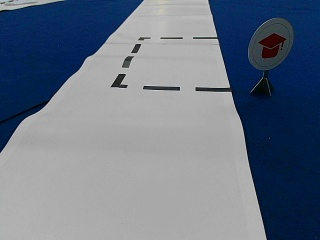school: (248, 18, 292, 69)
